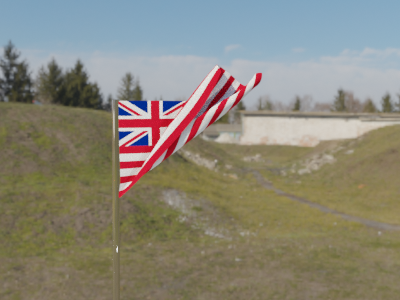Malaysia flag: (117, 66, 265, 194)
